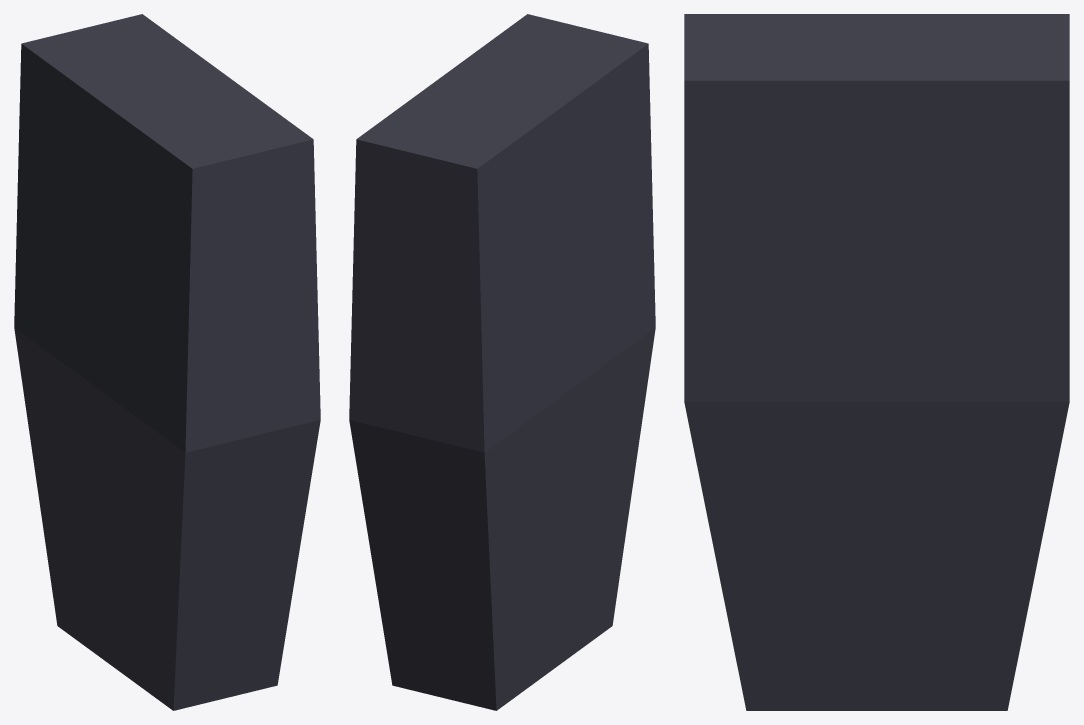
The model's file is monster_torso.gltf.
The picture shows the model from 3 angles, left to right: view 1: azimuth 30°, elevation 25°; view 2: azimuth 150°, elevation 25°; view 3: azimuth 270°, elevation 25°; orthographic projection. The views are drawn at different scales.
Parts seen in each view (by area): view 1: monster_torso; view 2: monster_torso; view 3: monster_torso.
Boxes of the visible parts, left/top/right/bottom form: monster_torso: left=14, top=14, right=320, bottom=710; monster_torso: left=349, top=14, right=655, bottom=710; monster_torso: left=684, top=14, right=1069, bottom=710.
Bounding box in the file's own units: 0.1481 × 0.5902 × 0.3246.
1 material, 1 textured.
